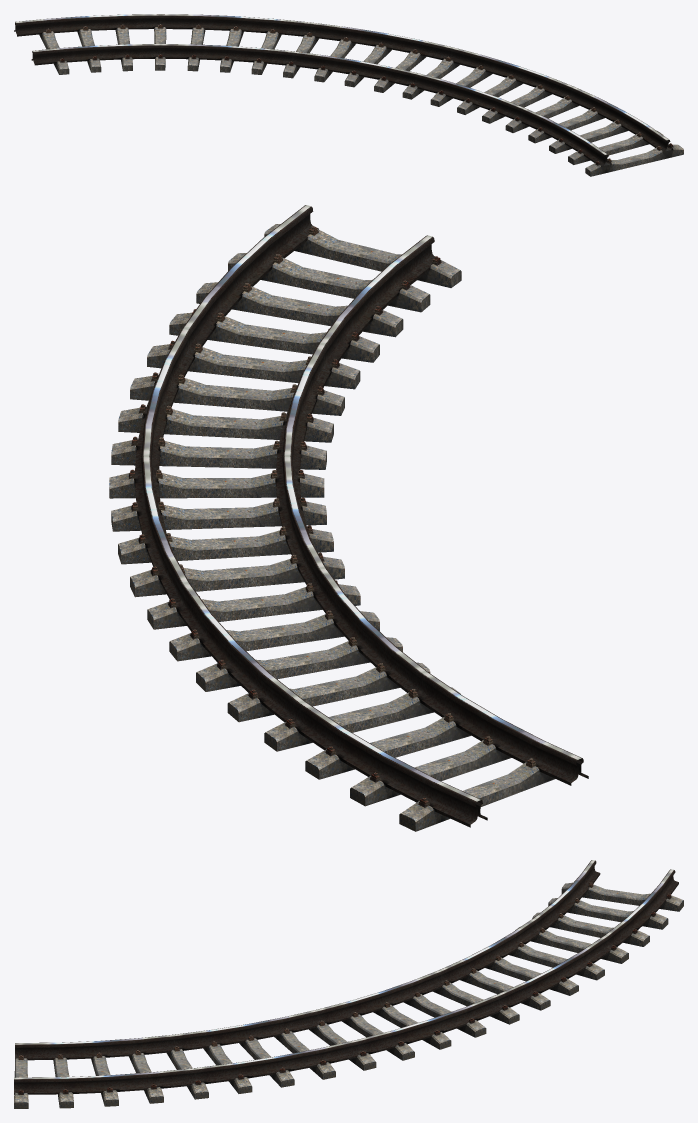
The model's file is Beton_rail_75.FBX.
The picture shows the model from 3 angles, top to bottom: view 1: azimuth 30°, elevation 25°; view 2: azimuth 150°, elevation 25°; view 3: azimuth 270°, elevation 25°; orthographic projection. The views are drawn at different scales.
Parts seen in each view (by area): view 1: Beton_rail_75_LOD0; view 2: Beton_rail_75_LOD0; view 3: Beton_rail_75_LOD0.
Part boxes in pixels (box(x1,y1,x2,y2)): Beton_rail_75_LOD0: box(14, 14, 683, 176); Beton_rail_75_LOD0: box(109, 205, 588, 831); Beton_rail_75_LOD0: box(14, 860, 683, 1108).
Size of what is drawn, in the model's own units: 10.93 by 13.56 by 0.4774.
